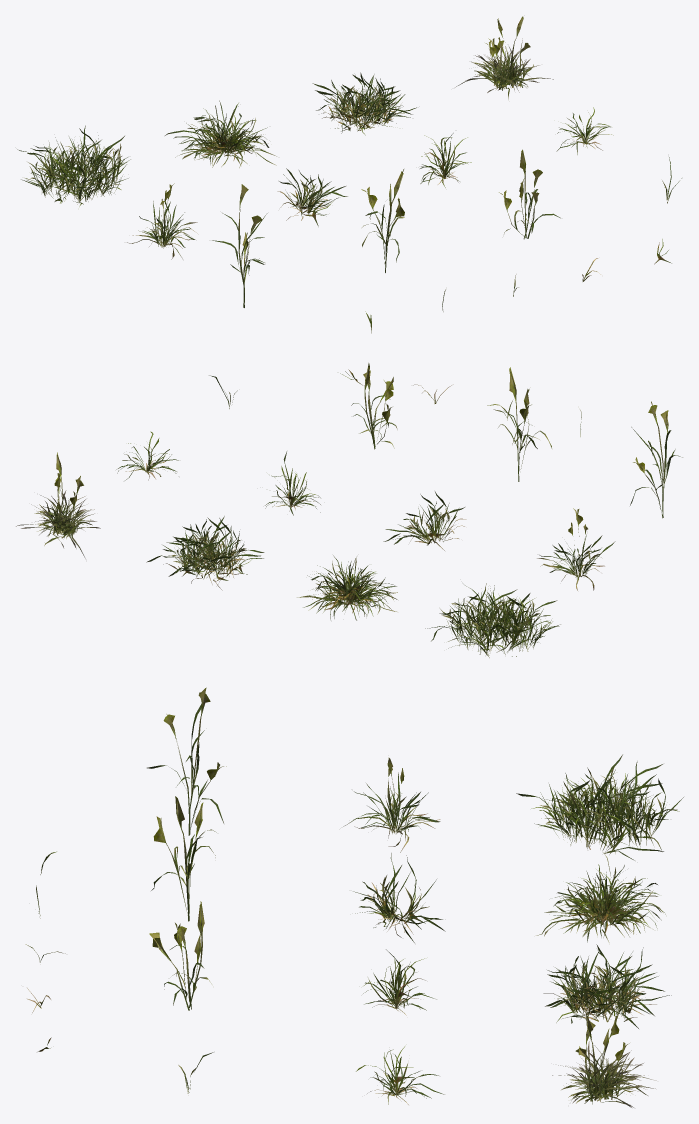
Rendered from capim1.glb.
3 views of the same model, one above another, from view 1: azimuth 30°, elevation 25°; view 2: azimuth 150°, elevation 25°; view 3: azimuth 270°, elevation 25° (orthographic). The views are drawn at different scales.
Parts seen in each view (by area): view 1: grass_medium_01; view 2: grass_medium_01; view 3: grass_medium_01.
Boxes of the visible parts, left/top/right/bottom form: grass_medium_01: left=17, top=16, right=681, bottom=333; grass_medium_01: left=16, top=363, right=682, bottom=657; grass_medium_01: left=25, top=687, right=683, bottom=1107.
Bounding box in the file's own units: 1.46 × 0.3418 × 1.3.
1 material, 1 textured.
